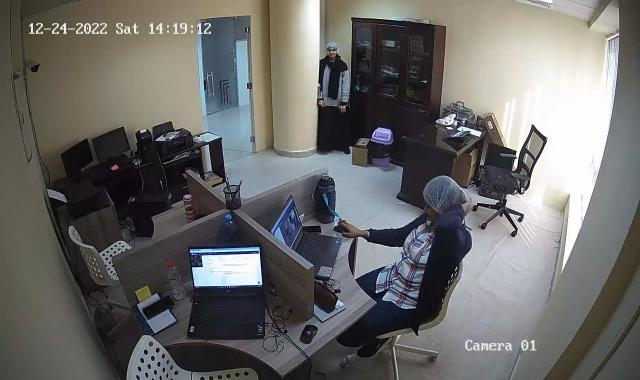hairnet: (423, 175, 466, 214), (326, 39, 340, 59)
